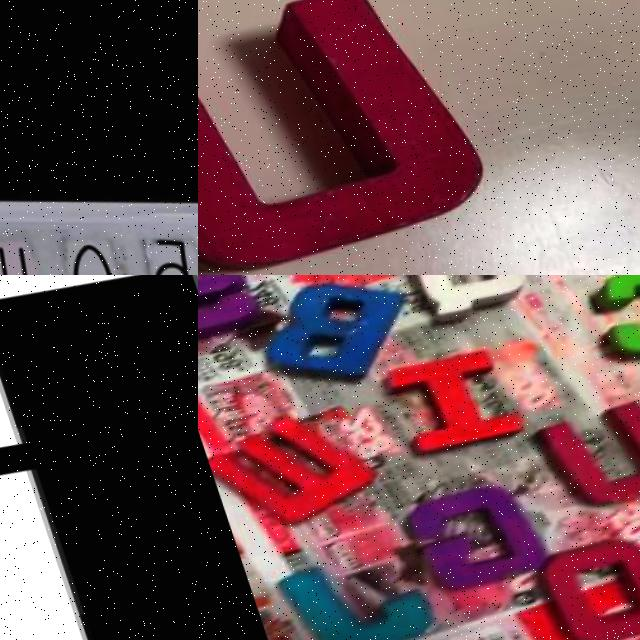0: (44, 216, 136, 275)
4: (0, 222, 55, 275)
5: (124, 212, 198, 275)
B: (242, 275, 419, 398)
C: (574, 275, 640, 366)
E: (0, 275, 198, 640)
G: (391, 463, 547, 596)
I: (378, 336, 512, 459)
J: (268, 535, 428, 640)
O: (521, 514, 640, 640)
Q: (397, 275, 526, 323)
S: (198, 275, 256, 352)
U: (198, 0, 477, 275), (521, 377, 640, 514)
W: (198, 389, 375, 540)
